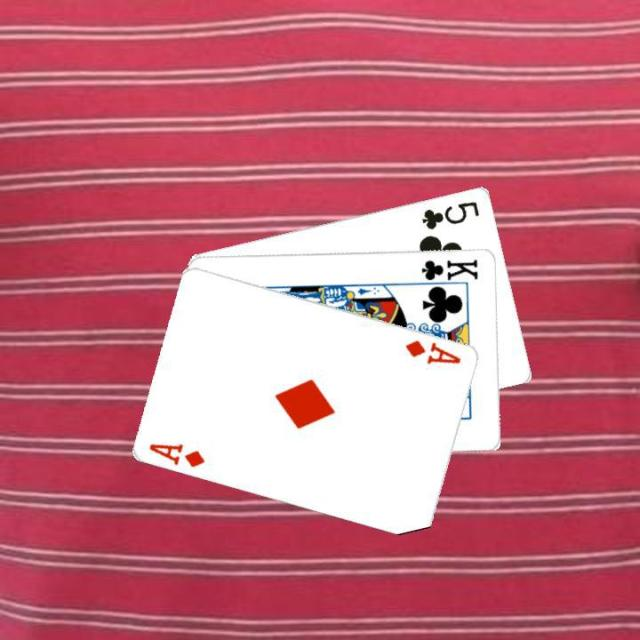5C: (418, 197, 481, 231)
AD: (402, 335, 463, 365), (146, 439, 207, 469)
KC: (412, 255, 480, 287)
